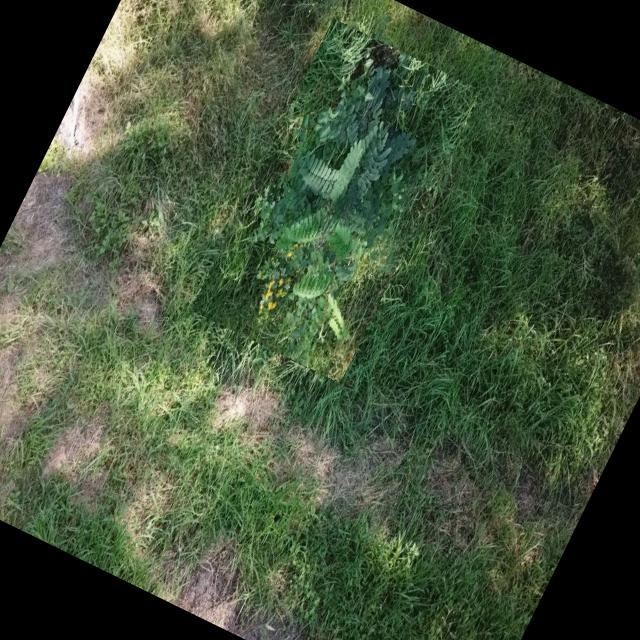Mysore-Thorn-Weed: (190, 18, 482, 383)
